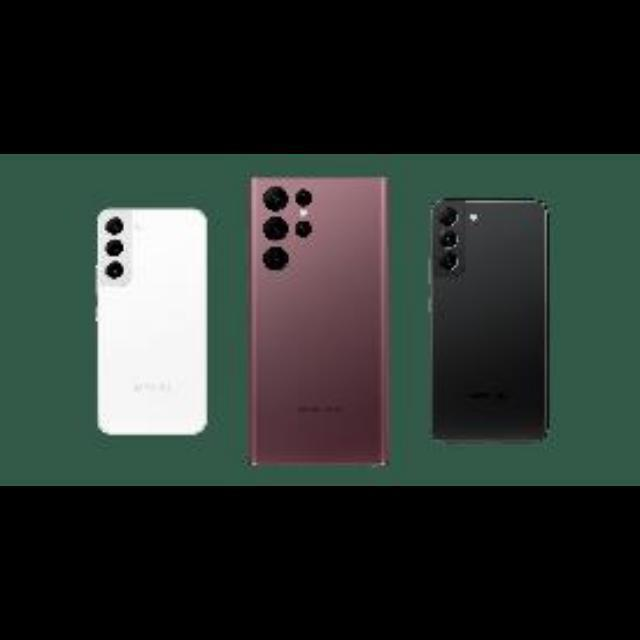phone: (246, 167, 396, 476), (431, 190, 553, 436), (97, 200, 211, 440)
